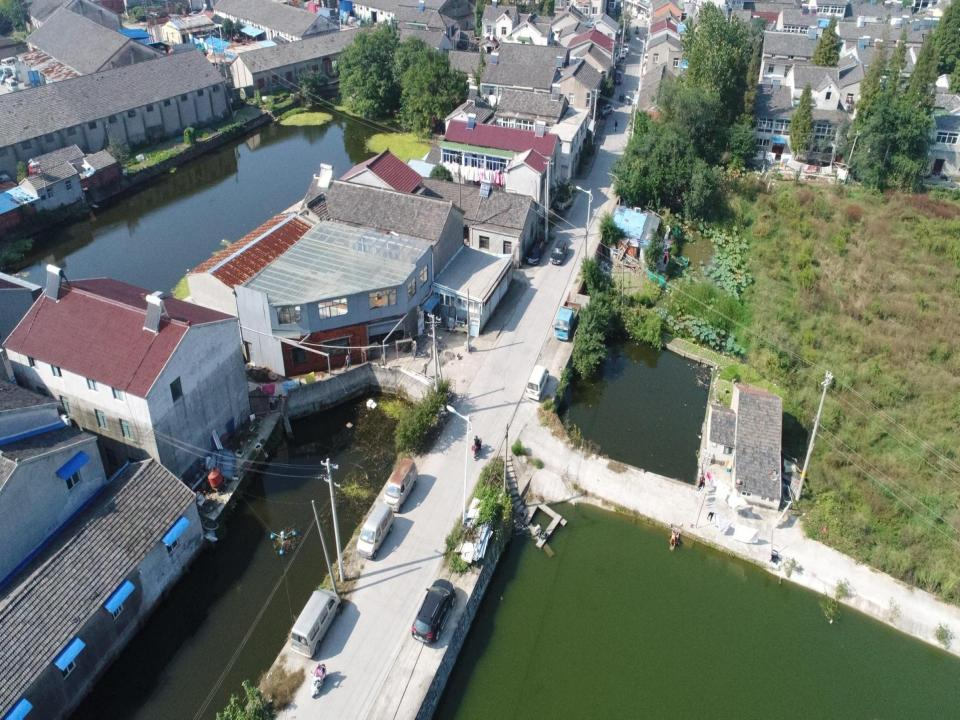car: (412, 579, 455, 645), (524, 238, 544, 265), (549, 240, 569, 265), (553, 190, 573, 213), (598, 103, 614, 115), (614, 70, 622, 86), (618, 48, 626, 59), (622, 43, 630, 53)
truck: (552, 299, 581, 342)
van: (291, 589, 342, 659), (356, 502, 395, 560), (384, 458, 417, 514), (526, 364, 549, 401)
